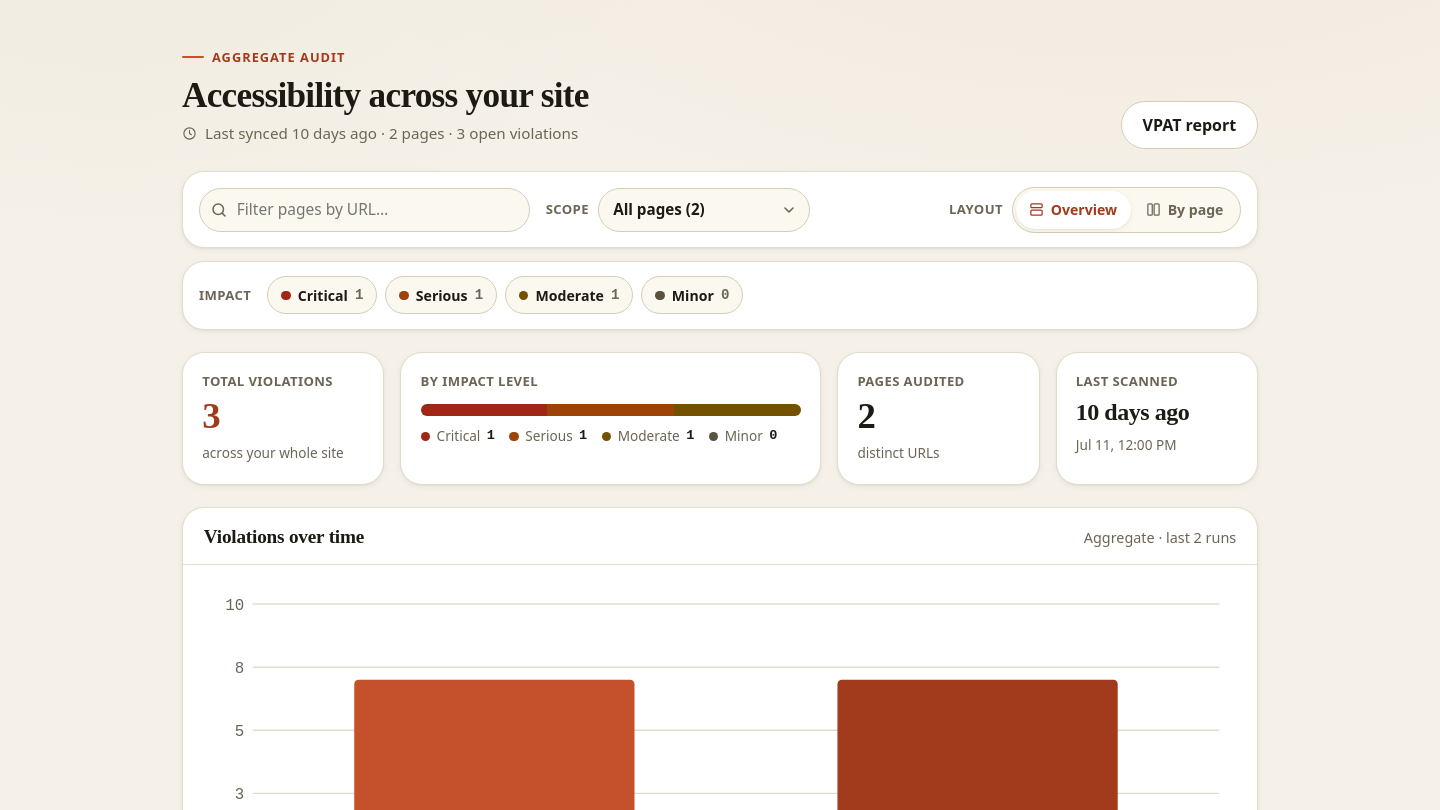
it: DashboardClient › scopes the stats to one page and clears again
Expected: the text with class "stat__v" reads "3", x1=202 y1=395 x2=220 y2=436
Expected: the button "show all pages" is not shown
Select "example.com/pricing" in the dropdown labelled "Scope" at (704, 210), box x1=598 y1=188 x2=810 y2=232
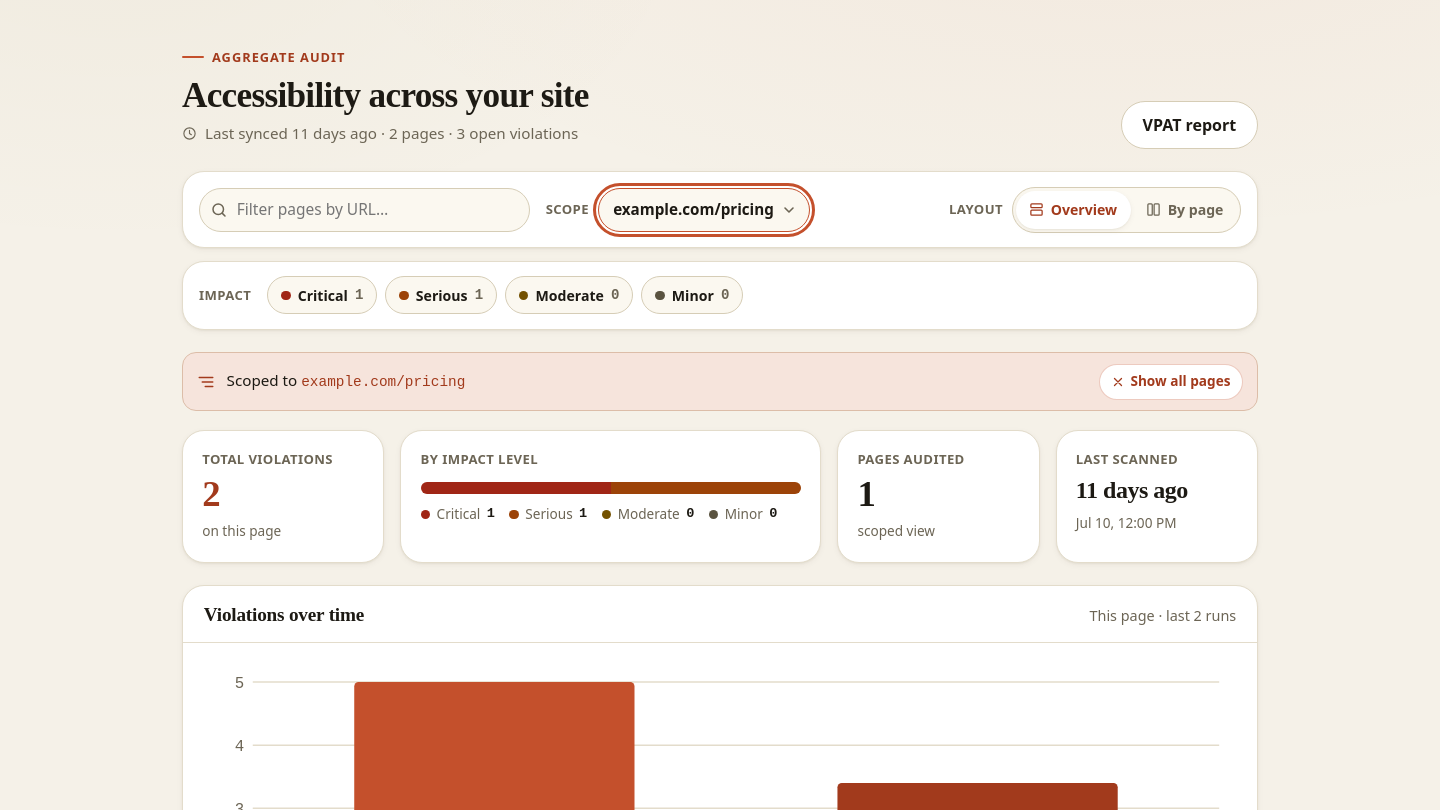
Result: the button "Show all pages" is shown
Result: the text "example.com/pricing" is shown at x1=301 y1=374 x2=465 y2=390
Result: the text with class "stat__v" reads "2" at x1=202 y1=473 x2=220 y2=514
Click the button "Show all pages" at (1171, 382), box x1=1099 y1=364 x2=1243 y2=400
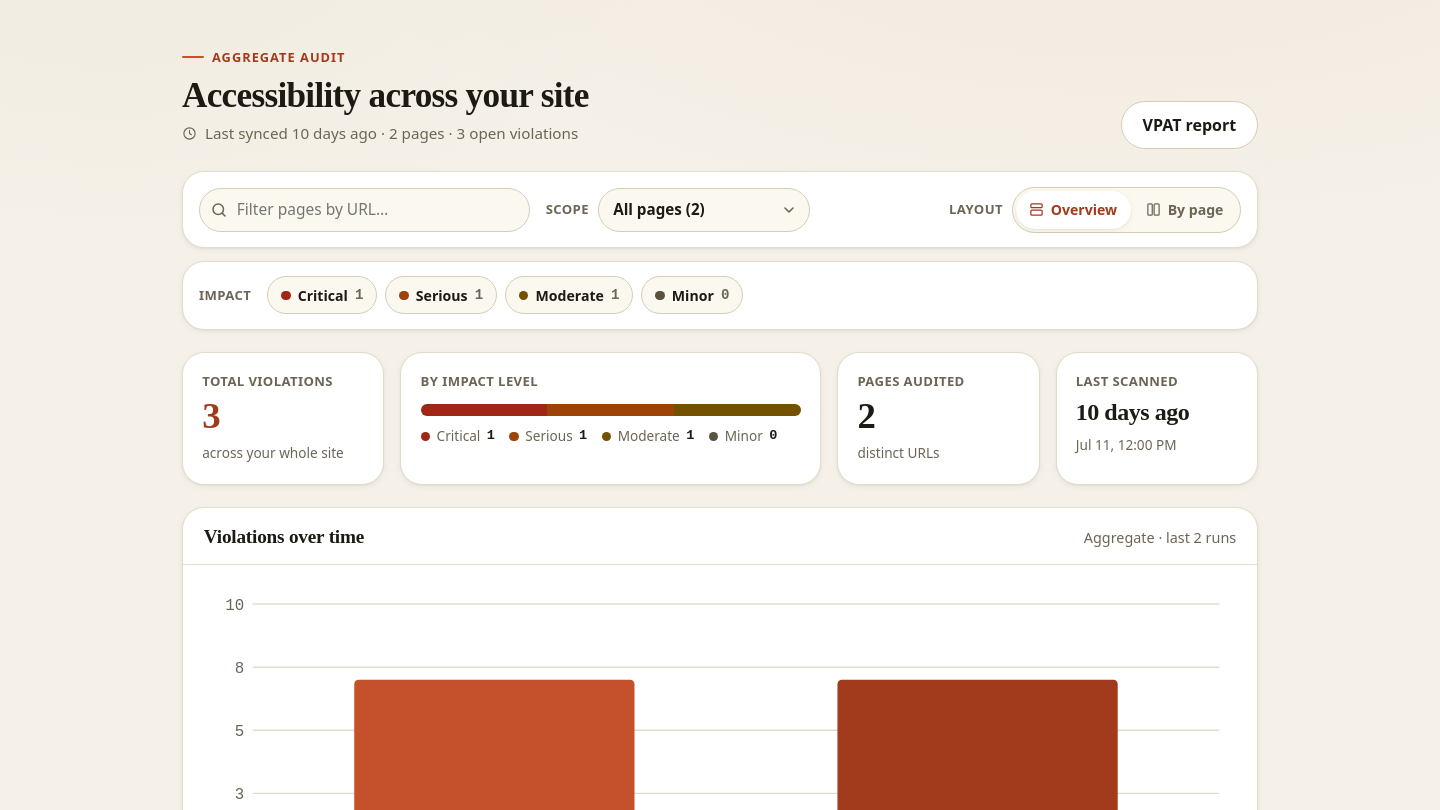
Result: the button "Show all pages" is gone
Result: the text with class "stat__v" reads "3" at x1=202 y1=395 x2=220 y2=436
